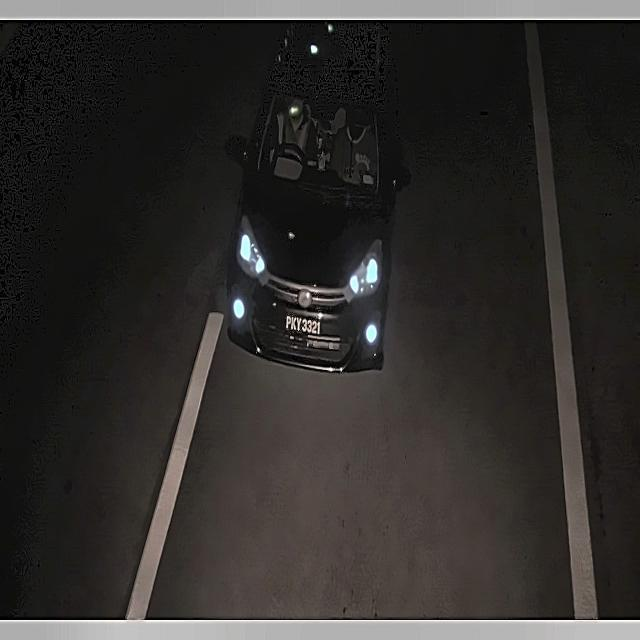car: (278, 307, 329, 342)
